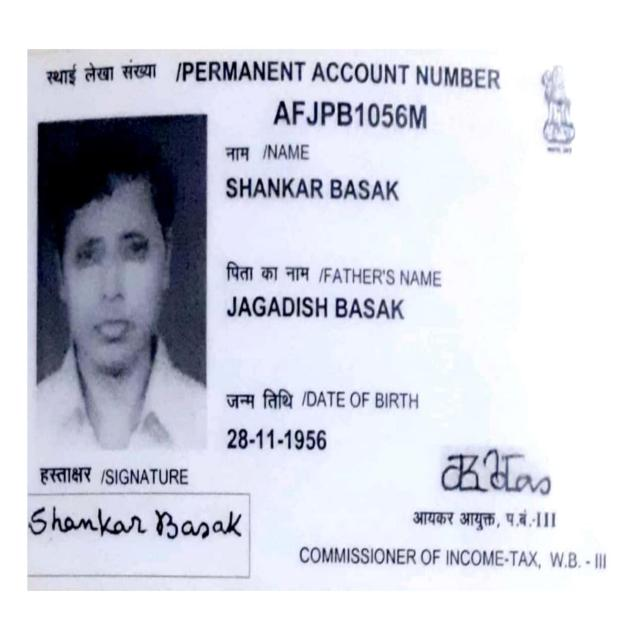pan_card: (25, 50, 619, 588)
